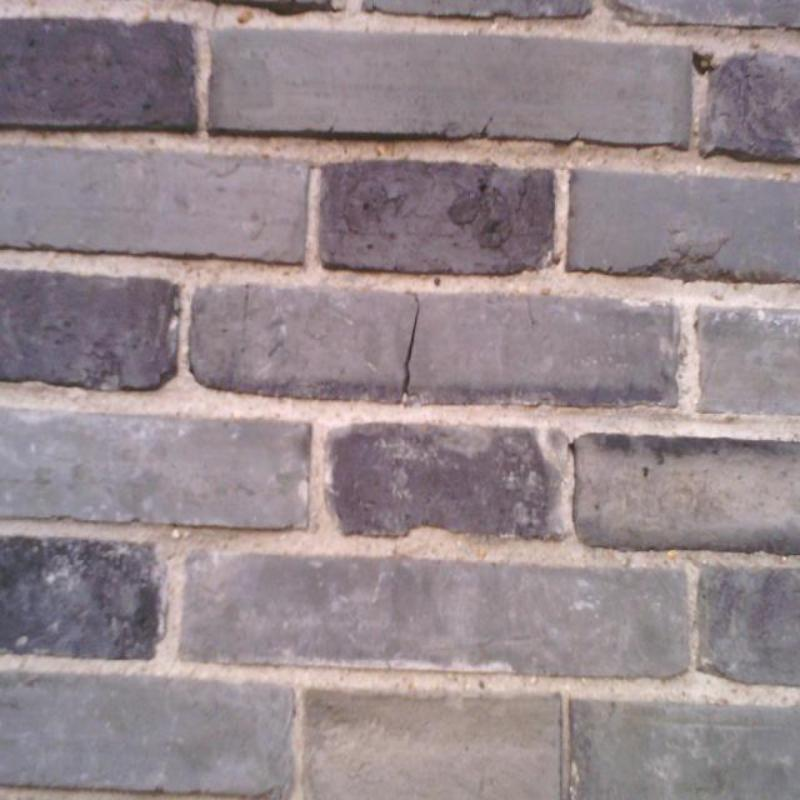pothole: (400, 297, 421, 399), (692, 54, 714, 74)
